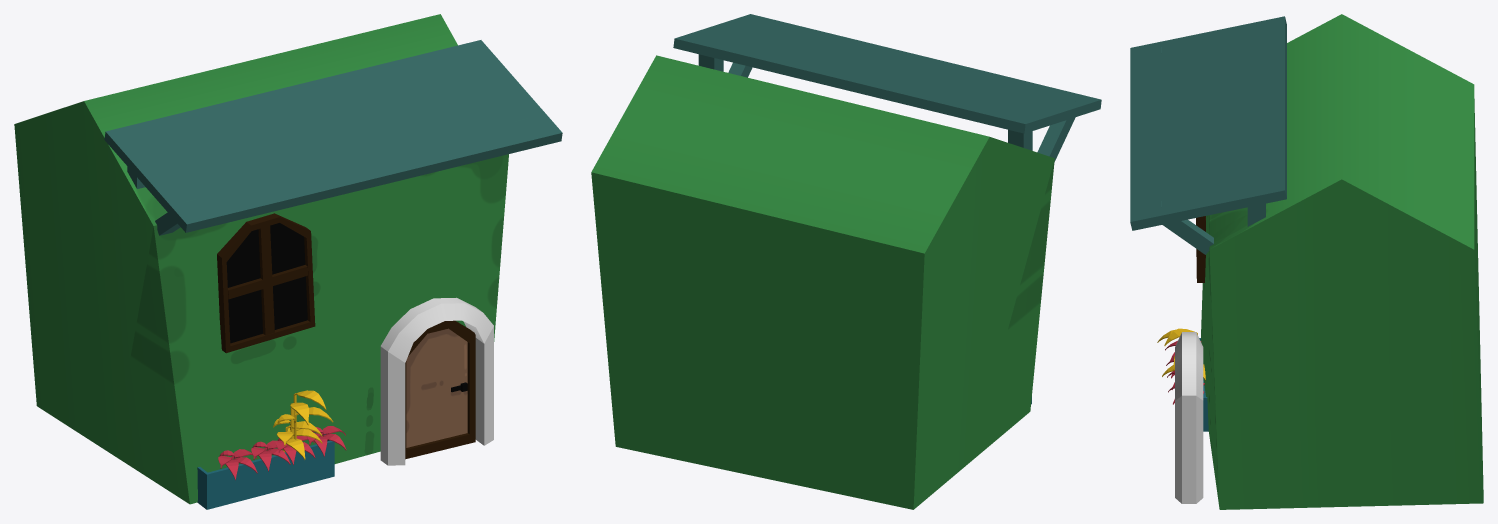
Rendered from casaverde.fbx.
3 renders of one model, left to right at view 1: azimuth 30°, elevation 25°; view 2: azimuth 150°, elevation 25°; view 3: azimuth 270°, elevation 25°, orthographic. The views are drawn at different scales.
Parts seen in each view (by area): view 1: pCube5, Cube.089; view 2: pCube5; view 3: pCube5.
Part boxes in pixels (box(x1,y1,x2,y2)): pCube5: box(14, 14, 562, 509); Cube.089: box(405, 320, 475, 459); pCube5: box(591, 14, 1101, 509); pCube5: box(1130, 14, 1483, 509).
Bounding box in the file's own units: 612 × 557 × 526.
